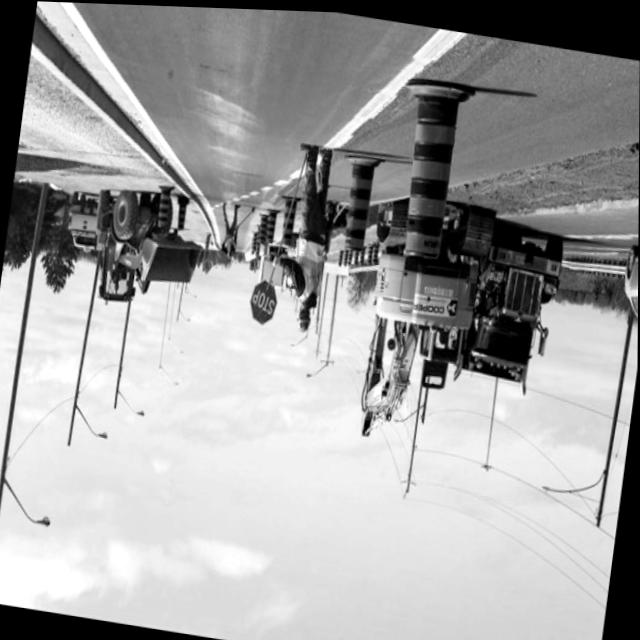cleat: (0, 1, 633, 418)
